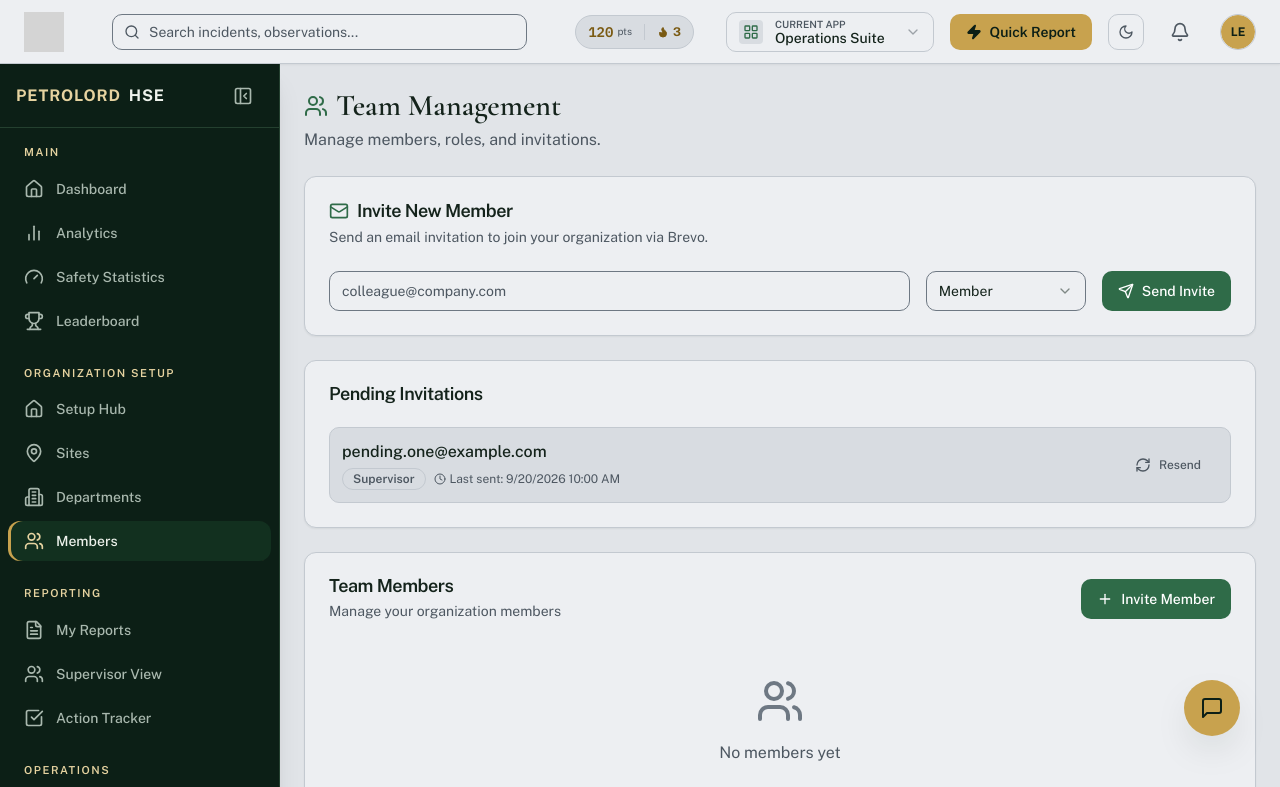
Test: Members (batch 1C) › further states › a sent invite shows a success toast on the family roles, then the Sent badge with its word
Expected: the text "pending.one@example.com" is shown, [342, 442, 547, 461]
Press the mouse on the button "Resend" at (1168, 465), box [1118, 449, 1218, 481]
Click the button "Resend" at (1168, 465), box [1118, 449, 1218, 481]
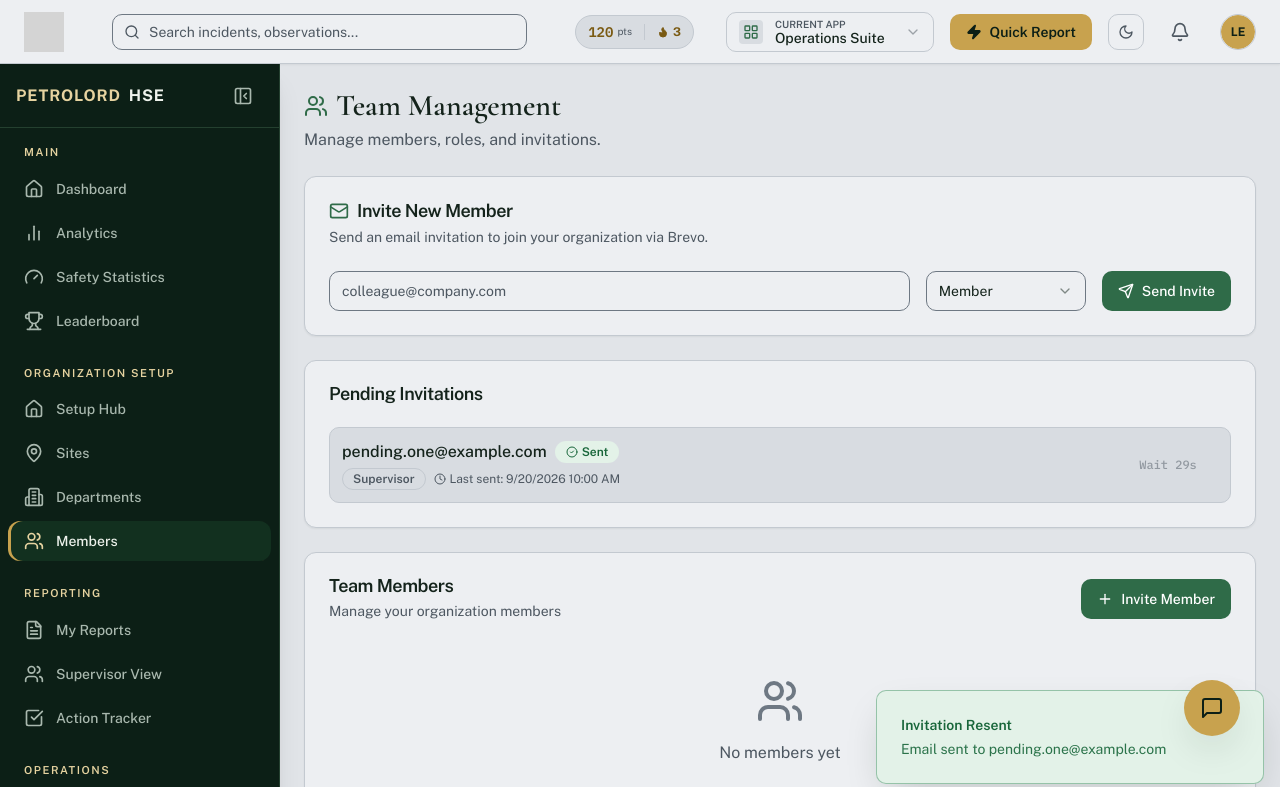
Expected: the text "Invitation Resent" is shown, [901, 717, 1012, 733]
Expected: the text "Sent" is shown, [555, 441, 619, 463]
Expected: the text "Wait 29s" is shown, [1139, 457, 1197, 473]
